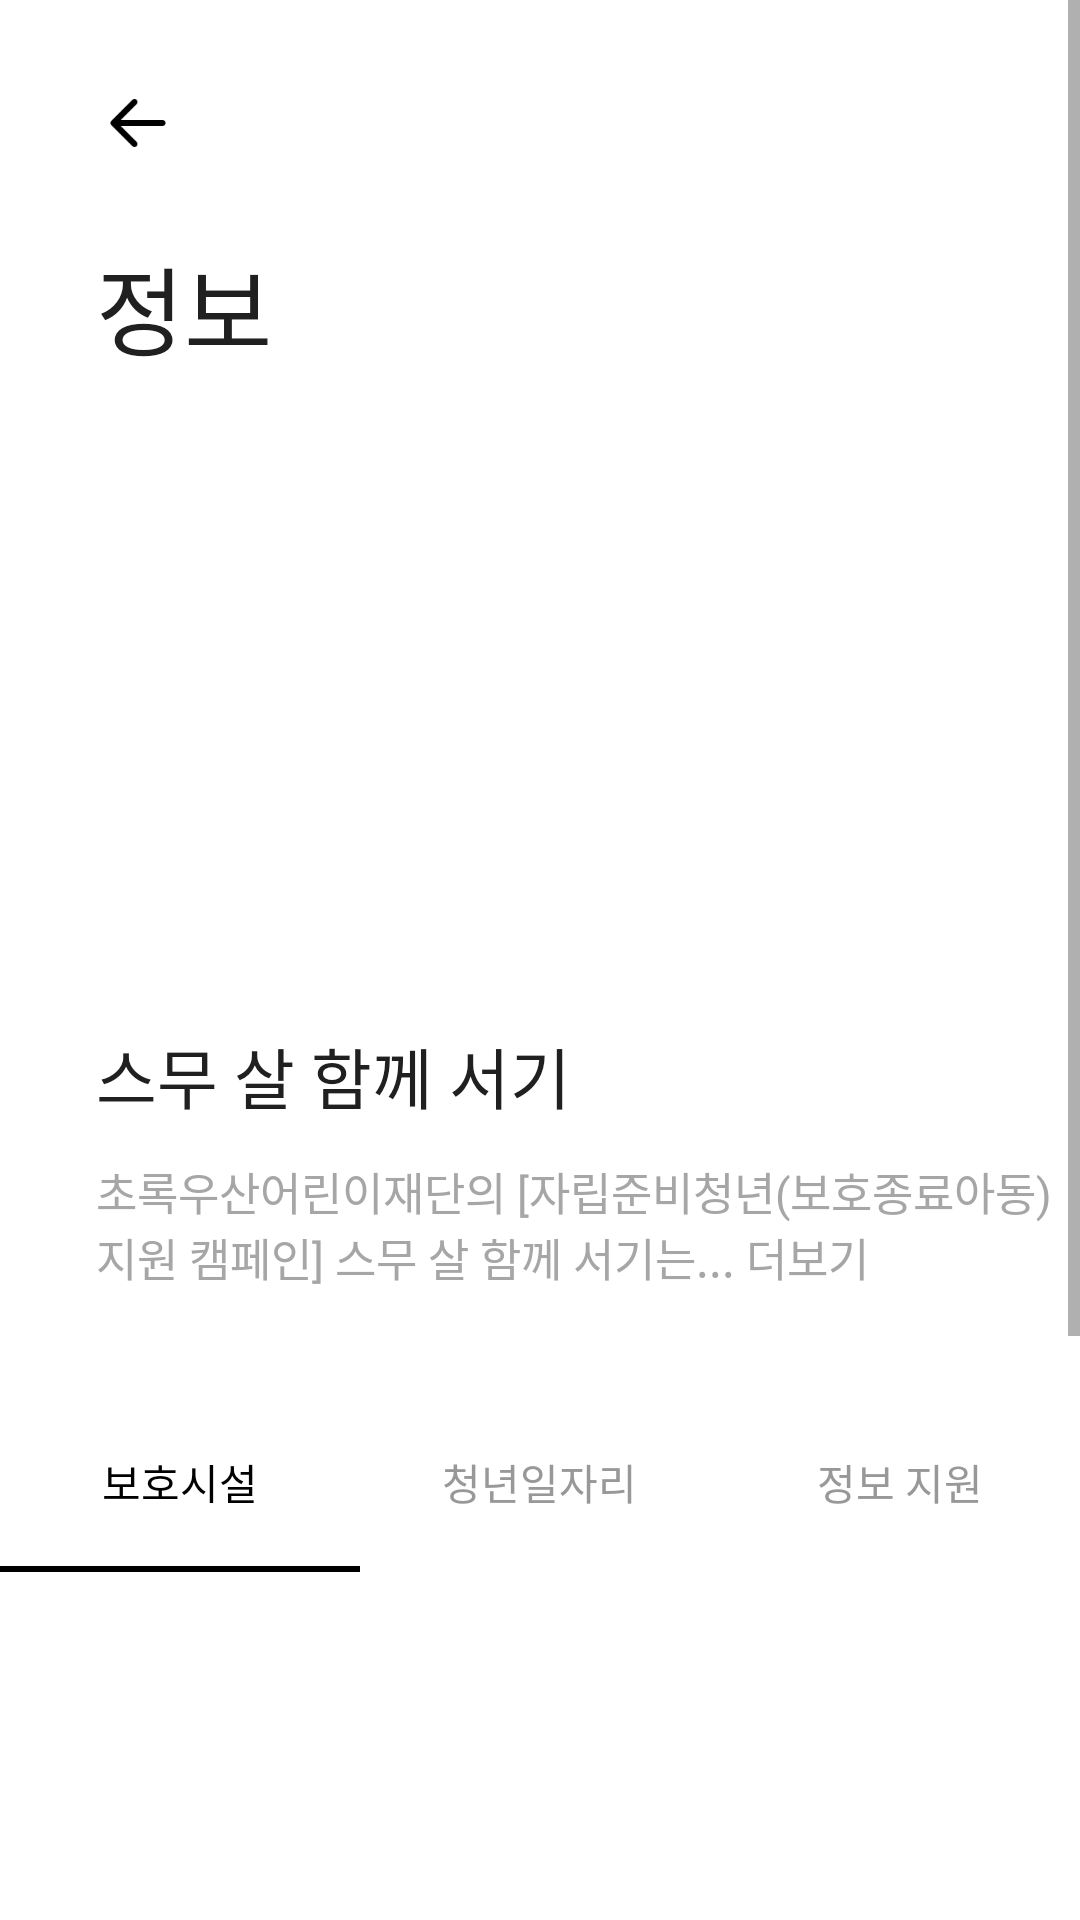

Named icons in this screenshot (1080px×1920px) and their centers, point (x, y):
back: point (138, 123)
